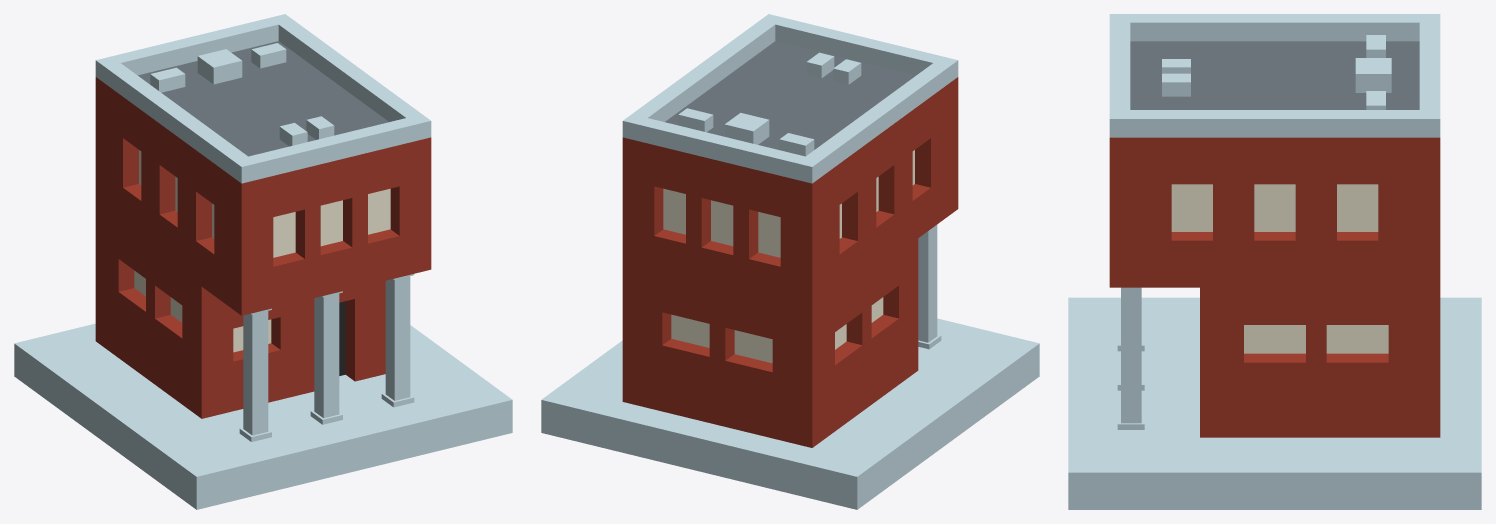
File: Building_7_Base_Extra (Red).obj
3 views of the same model, side by side, from view 1: azimuth 30°, elevation 25°; view 2: azimuth 150°, elevation 25°; view 3: azimuth 270°, elevation 25° (orthographic). The views are drawn at different scales.
Visible parts, largest first — view 1: Building_7_Base_Extra_(Red); view 2: Building_7_Base_Extra_(Red); view 3: Building_7_Base_Extra_(Red).
Boxes of the visible parts, bbox=[...] form: Building_7_Base_Extra_(Red): bbox=[14, 14, 512, 509]; Building_7_Base_Extra_(Red): bbox=[541, 14, 1039, 509]; Building_7_Base_Extra_(Red): bbox=[1068, 14, 1481, 509].
Size of the model in its own units: 2 by 1.9 by 2.
